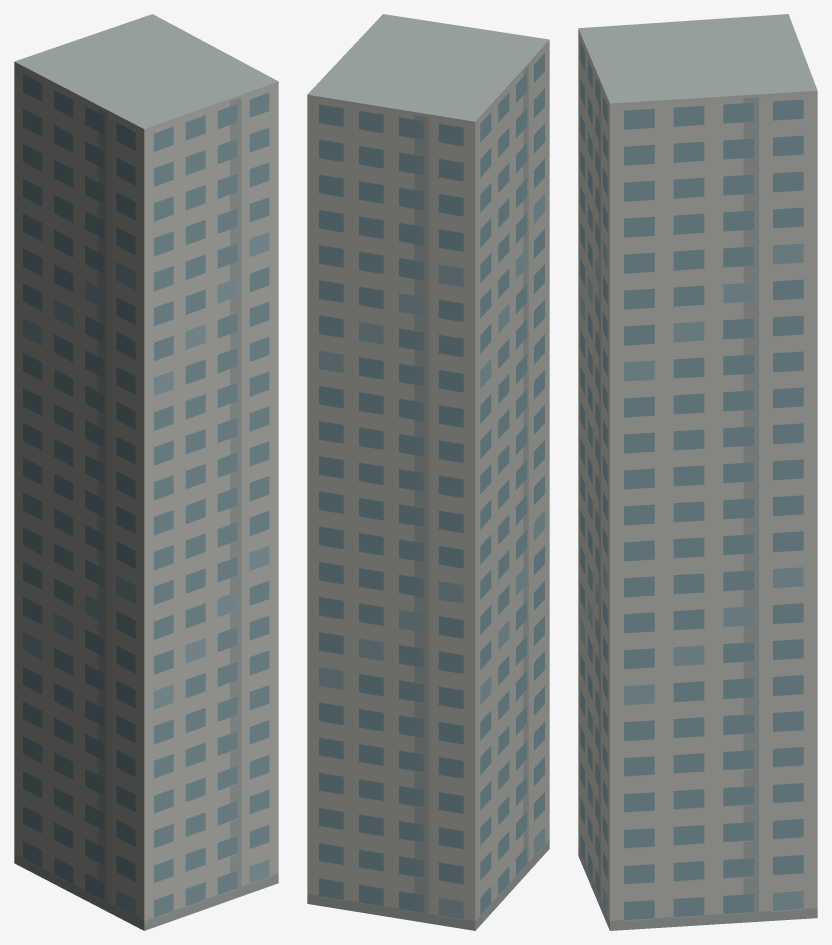
The model's file is survey-upis-32555511.glb.
The picture shows the model from 3 angles, left to right: view 1: azimuth 30°, elevation 25°; view 2: azimuth 150°, elevation 25°; view 3: azimuth 270°, elevation 25°; orthographic projection. The views are drawn at different scales.
Parts seen in each view (by area): view 1: survey-upis-32555511.tmp; view 2: survey-upis-32555511.tmp; view 3: survey-upis-32555511.tmp.
Boxes of the visible parts, left/top/right/bottom form: survey-upis-32555511.tmp: left=14, top=14, right=278, bottom=930; survey-upis-32555511.tmp: left=307, top=14, right=549, bottom=930; survey-upis-32555511.tmp: left=578, top=14, right=817, bottom=930.
Size of the model in its own units: 16.31 by 70.15 by 18.41.
